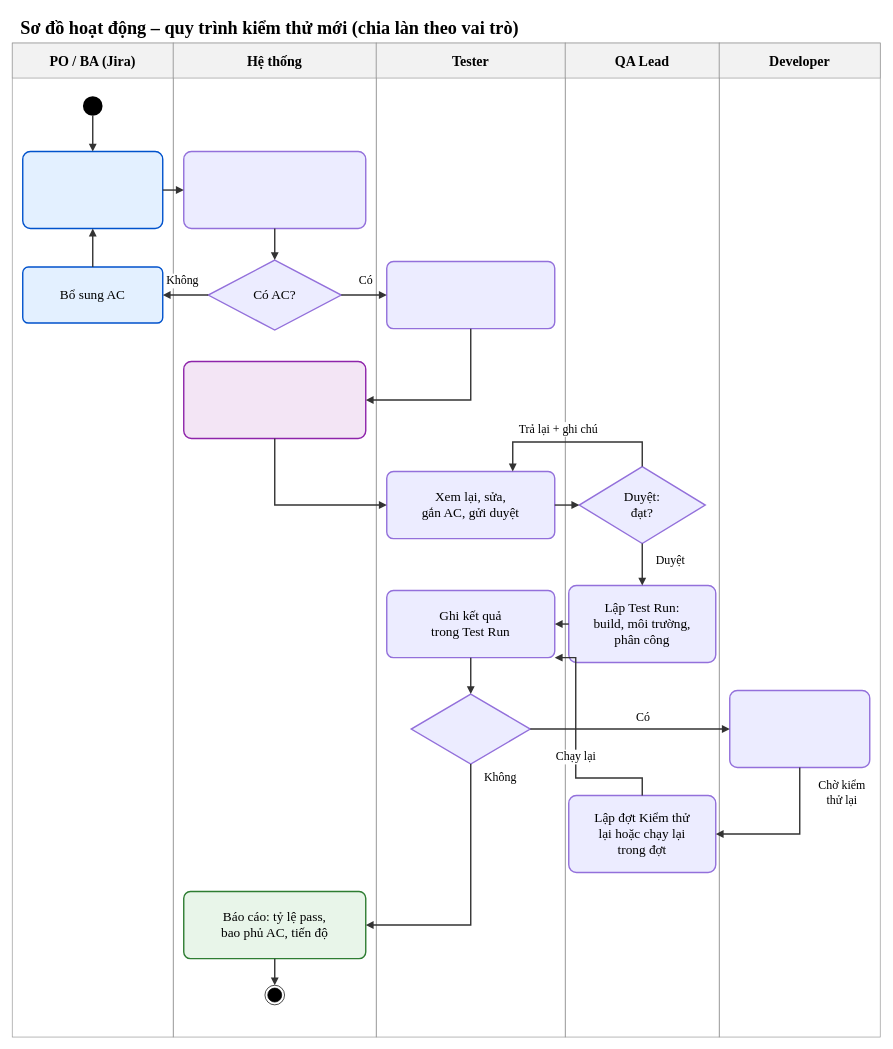
Some shapes in this 893 by 1049 pixel diagram are drawn without their labels. Here are the shapes that lost their labels. From the top down, the centre of each, then its label:
At point (92, 189): "Viết requirement kèm mục Acceptance criteria".
At point (274, 189): "Đồng bộ một chiều; chỉ ghi bản Jira mới hơn".
At point (470, 294): "Bấm Sinh test case bằng AI".
At point (274, 399): "AI sinh test Nháp, mỗi test gắn AC (che PII, schema)".
At point (470, 728): "Fail?".
At point (799, 729): "Sửa lỗi, báo đã sửa kèm build".
